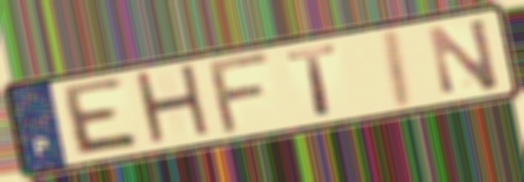E: (61, 75, 145, 159)
F: (207, 49, 277, 139)
H: (130, 60, 218, 151)
I: (382, 25, 418, 113)
N: (423, 14, 503, 97)
T: (283, 42, 343, 119)
